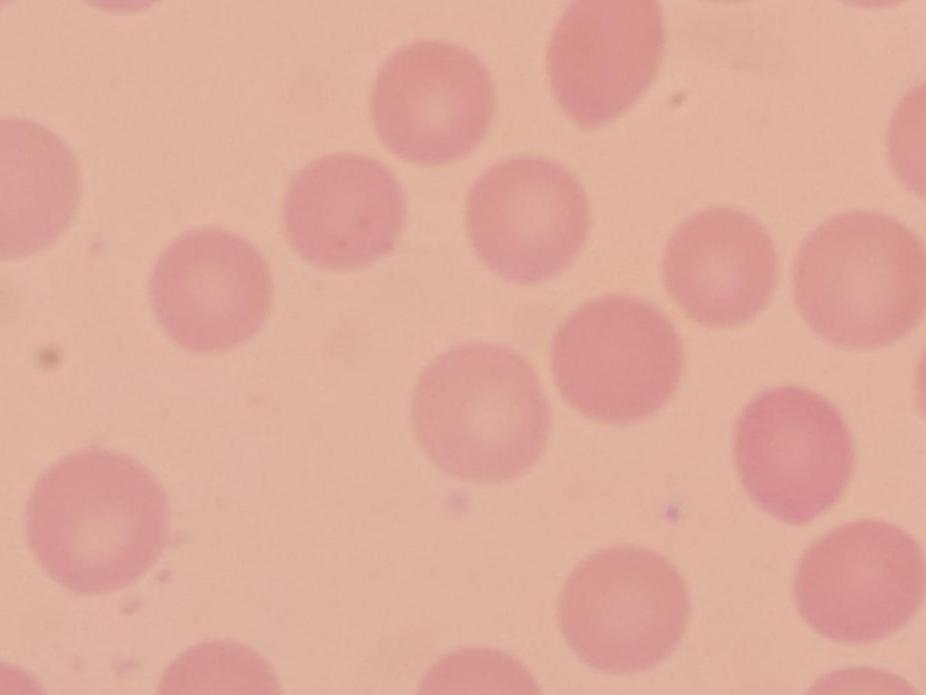Uninfected: (27, 449, 171, 598), (413, 339, 549, 481), (795, 211, 926, 351), (557, 542, 691, 676), (790, 519, 926, 646), (465, 156, 593, 289), (733, 384, 852, 523), (553, 297, 682, 425), (153, 222, 272, 354), (547, 0, 666, 131), (283, 154, 407, 276), (663, 202, 782, 328), (372, 42, 491, 165), (0, 121, 78, 260)
